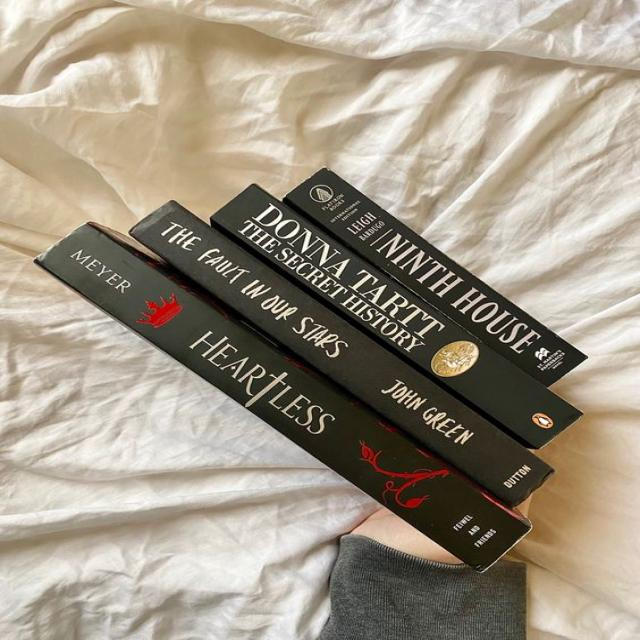book: (37, 222, 529, 569), (133, 201, 550, 505), (212, 186, 579, 449), (284, 169, 586, 386)
